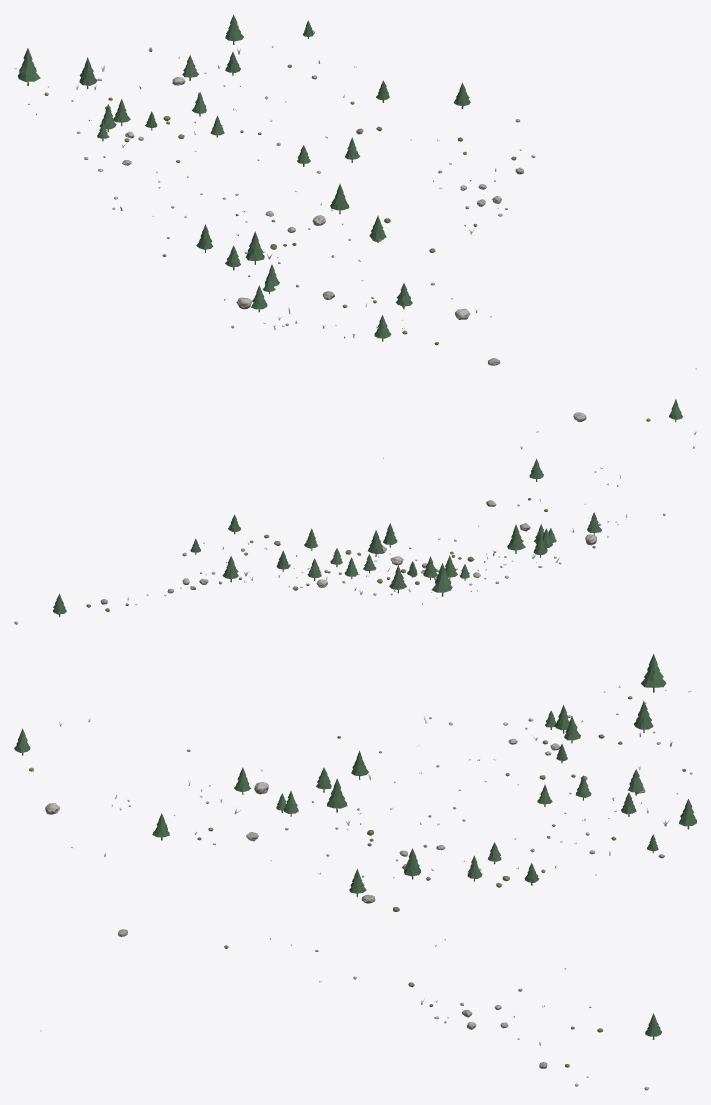
The model's file is coast_land_scatter_c11_16.glb.
3 views of the same model, one above another, from view 1: azimuth 30°, elevation 25°; view 2: azimuth 150°, elevation 25°; view 3: azimuth 270°, elevation 25° (orthographic). The views are drawn at different scales.
Visible parts, largest first — view 1: coast_land_scatter_c11_16; view 2: coast_land_scatter_c11_16; view 3: coast_land_scatter_c11_16.
Boxes of the visible parts, left/top/right/bottom form: coast_land_scatter_c11_16: left=14, top=14, right=696, bottom=369; coast_land_scatter_c11_16: left=14, top=399, right=696, bottom=624; coast_land_scatter_c11_16: left=14, top=654, right=696, bottom=1090.
Size of the model in its own units: 231 by 84.43 by 261.
